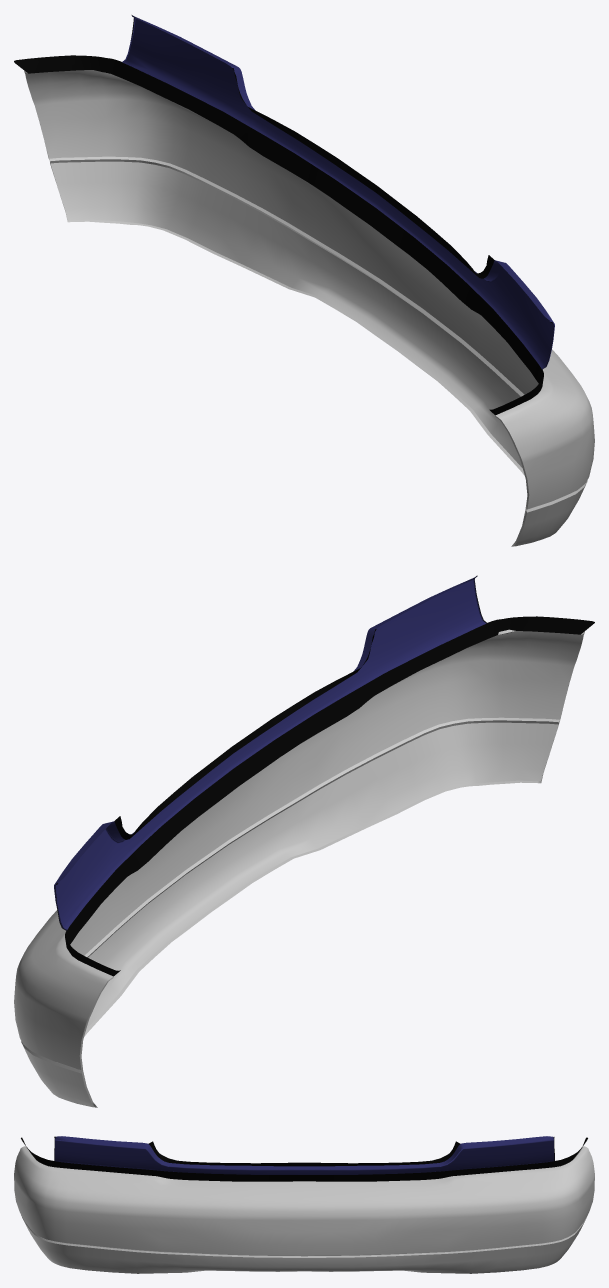
3 renders of one model, top to bottom at view 1: azimuth 30°, elevation 25°; view 2: azimuth 150°, elevation 25°; view 3: azimuth 270°, elevation 25°, orthographic. The views are drawn at different scales.
Visible parts, largest first — view 1: P615_5A_021G_C_2_DaS_P615_5A_021G_C, P615_5A_021G_C_P615_5A_021G_C_1_DaS, P615_5A_021G_C_P615_5A_021G_C_4_D, P615_5A_021G_C_2_DaS_P615_5A_021G_C_E, P615_5A_021G_C_P615_5A_021G_C_1_DaS_E; view 2: P615_5A_021G_C_2_DaS_P615_5A_021G_C, P615_5A_021G_C_P615_5A_021G_C_1_DaS, P615_5A_021G_C_P615_5A_021G_C_4_D, P615_5A_021G_C_2_DaS_P615_5A_021G_C_E, P615_5A_021G_C_P615_5A_021G_C_1_DaS_E; view 3: P615_5A_021G_C_2_DaS_P615_5A_021G_C, P615_5A_021G_C_P615_5A_021G_C_1_DaS, P615_5A_021G_C_P615_5A_021G_C_4_D, P615_5A_021G_C_P615_5A_021G_C_1_DaS_E, P615_5A_021G_C_2_DaS_P615_5A_021G_C_E.
Part boxes in pixels (box(x1,y1,x2,y2)): P615_5A_021G_C_2_DaS_P615_5A_021G_C: box(24, 70, 594, 546); P615_5A_021G_C_P615_5A_021G_C_1_DaS: box(123, 17, 553, 368); P615_5A_021G_C_P615_5A_021G_C_4_D: box(14, 15, 554, 415); P615_5A_021G_C_2_DaS_P615_5A_021G_C_E: box(24, 71, 587, 546); P615_5A_021G_C_P615_5A_021G_C_1_DaS_E: box(122, 15, 554, 366); P615_5A_021G_C_2_DaS_P615_5A_021G_C: box(14, 631, 584, 1107); P615_5A_021G_C_P615_5A_021G_C_1_DaS: box(55, 578, 485, 929); P615_5A_021G_C_P615_5A_021G_C_4_D: box(55, 575, 594, 976); P615_5A_021G_C_2_DaS_P615_5A_021G_C_E: box(21, 629, 584, 1107); P615_5A_021G_C_P615_5A_021G_C_1_DaS_E: box(54, 576, 486, 930); P615_5A_021G_C_2_DaS_P615_5A_021G_C: box(14, 1146, 594, 1273); P615_5A_021G_C_P615_5A_021G_C_1_DaS: box(54, 1139, 554, 1174); P615_5A_021G_C_P615_5A_021G_C_4_D: box(21, 1136, 587, 1181); P615_5A_021G_C_P615_5A_021G_C_1_DaS_E: box(54, 1136, 554, 1168); P615_5A_021G_C_2_DaS_P615_5A_021G_C_E: box(21, 1146, 587, 1257).
Bounding box in the file's own units: 41.5 × 48.64 × 202.
